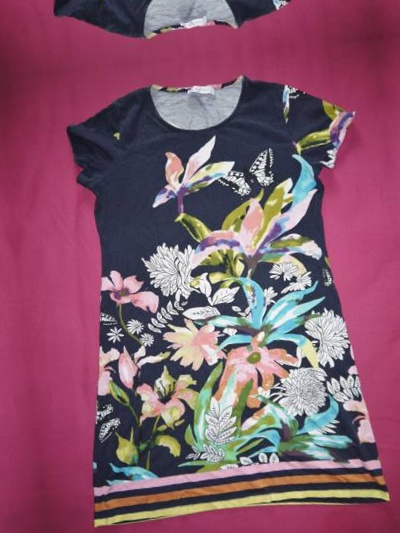Dress: (32, 53, 400, 533), (0, 0, 353, 60), (0, 96, 15, 533), (345, 0, 400, 20), (398, 13, 400, 502)
